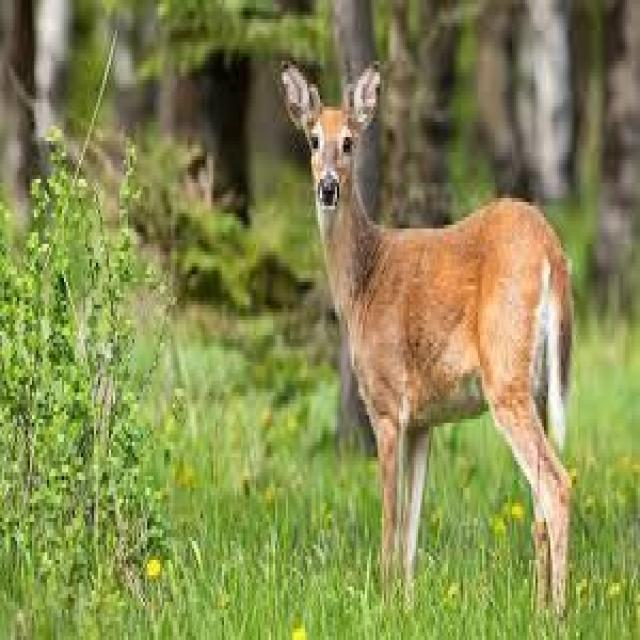deer: (282, 65, 570, 606)
